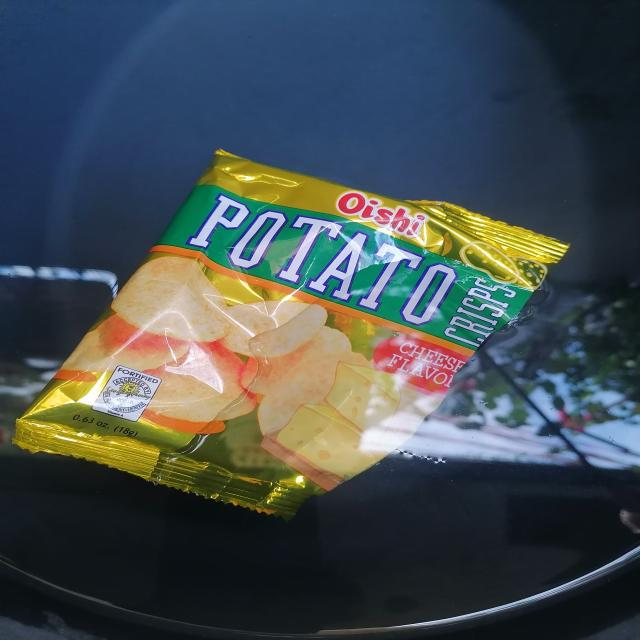Plastic Wrapper: (14, 150, 568, 515)
